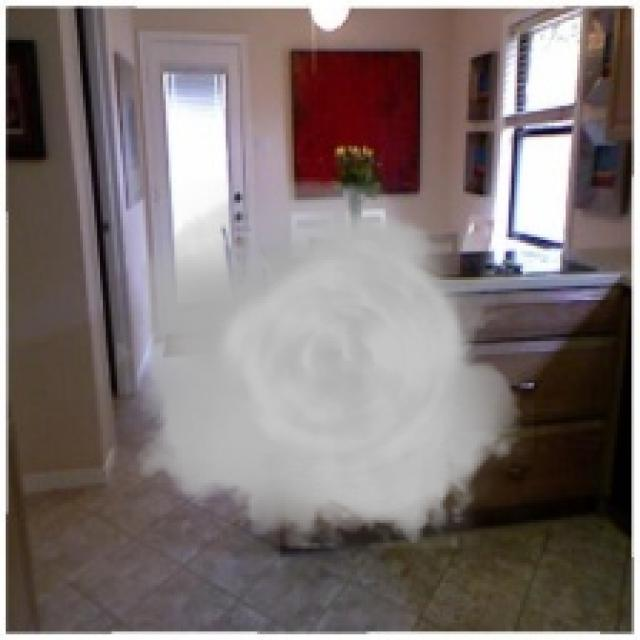smoke: (117, 177, 534, 549)
